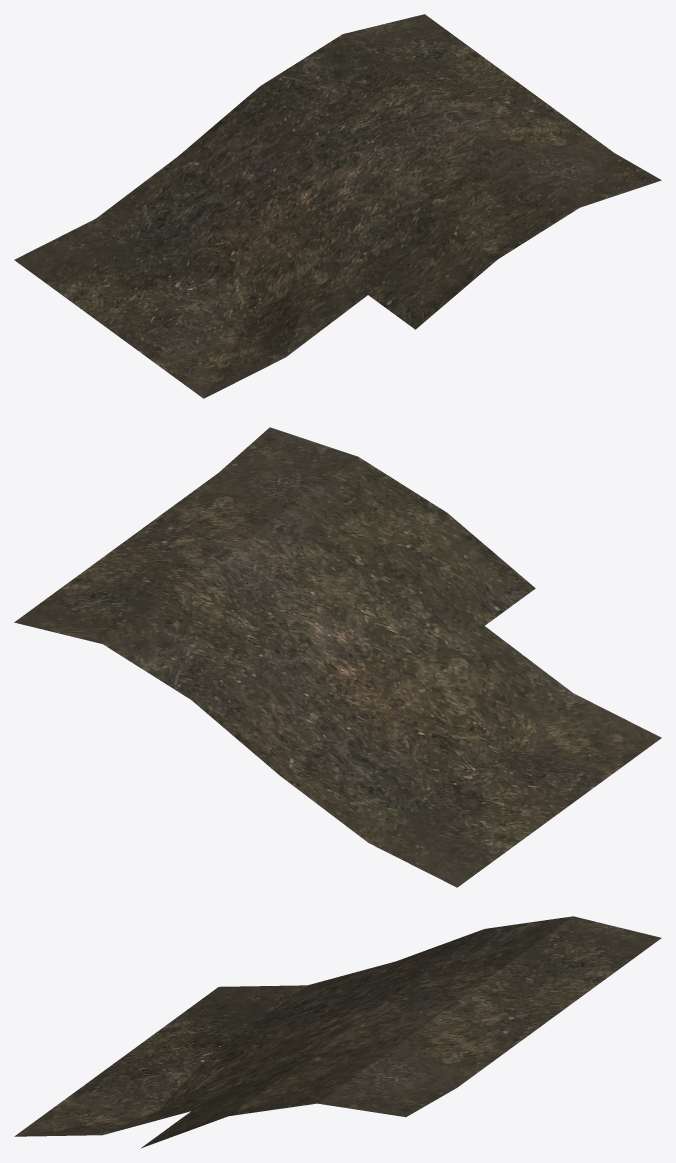
Rendered from blend_weeds06.fbx.
The picture shows the model from 3 angles, top to bottom: view 1: azimuth 30°, elevation 25°; view 2: azimuth 150°, elevation 25°; view 3: azimuth 330°, elevation 25°; orthographic projection. The views are drawn at different scales.
Parts seen in each view (by area): view 1: obj0.027; view 2: obj0.027; view 3: obj0.027.
Part boxes in pixels (box(x1,y1,x2,y2)): obj0.027: box(14, 14, 661, 398); obj0.027: box(14, 427, 661, 887); obj0.027: box(14, 916, 661, 1148).
Bounding box in the file's own units: 12.5 × 4.45 × 12.5.
